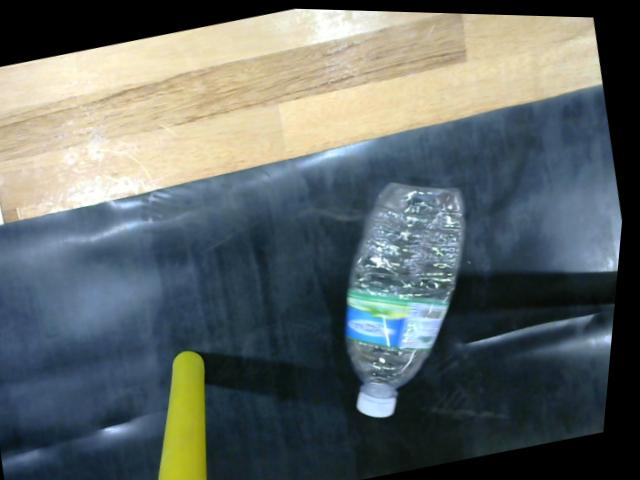bottle: (348, 174, 476, 419)
